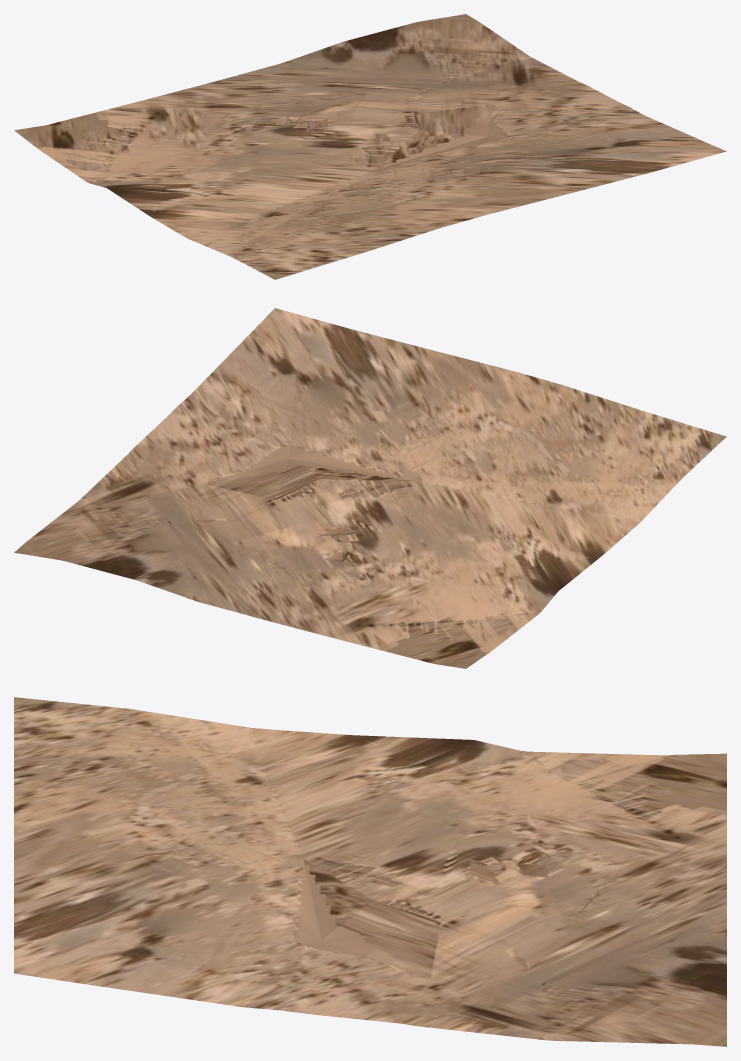
3 views of the same model, one above another, from view 1: azimuth 30°, elevation 25°; view 2: azimuth 150°, elevation 25°; view 3: azimuth 270°, elevation 25° (orthographic). The views are drawn at different scales.
Bounding box in the file's own units: 2.09 × 0.2756 × 2.09.
3 materials, 3 textured.
